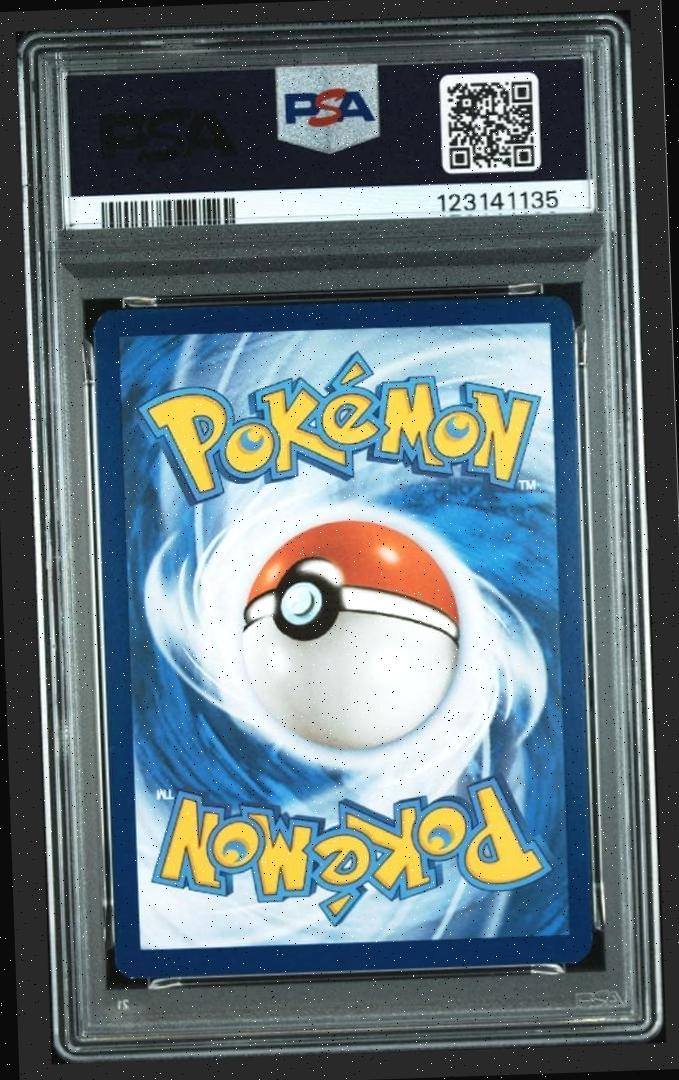card-2UtV: (91, 294, 593, 980)
